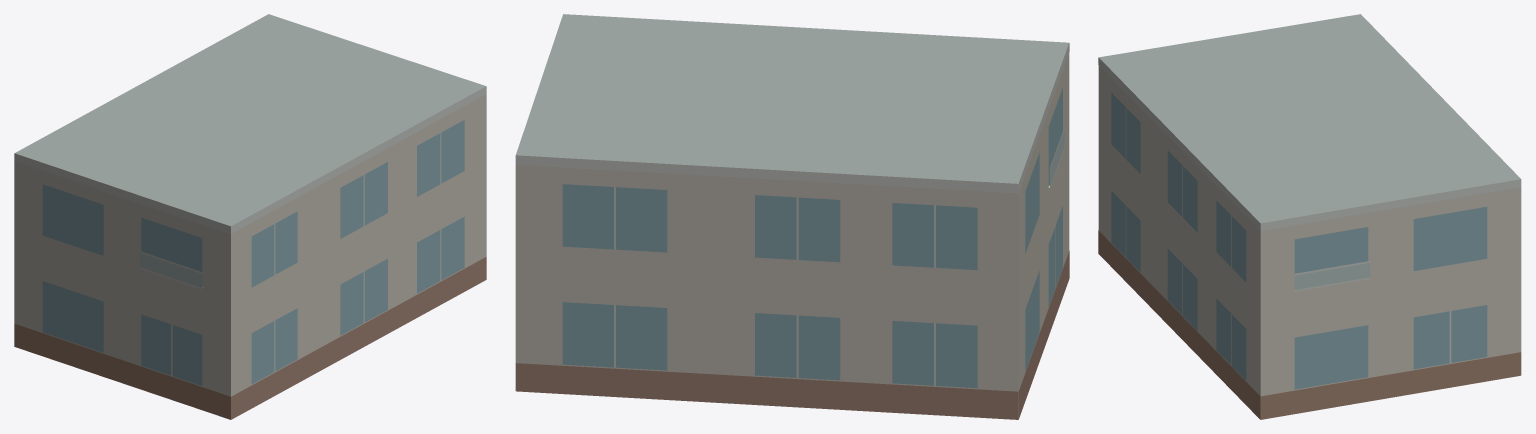
Rendered from survey-upis-32866197.glb.
3 renders of one model, left to right at view 1: azimuth 30°, elevation 25°; view 2: azimuth 150°, elevation 25°; view 3: azimuth 270°, elevation 25°, orthographic. The views are drawn at different scales.
Parts seen in each view (by area): view 1: survey-upis-32866197.tmp; view 2: survey-upis-32866197.tmp; view 3: survey-upis-32866197.tmp.
Boxes of the visible parts, left/top/right/bottom form: survey-upis-32866197.tmp: left=14, top=14, right=486, bottom=419; survey-upis-32866197.tmp: left=515, top=14, right=1069, bottom=419; survey-upis-32866197.tmp: left=1098, top=14, right=1521, bottom=419.
Bounding box in the file's own units: 13.96 × 6.1 × 11.91.
